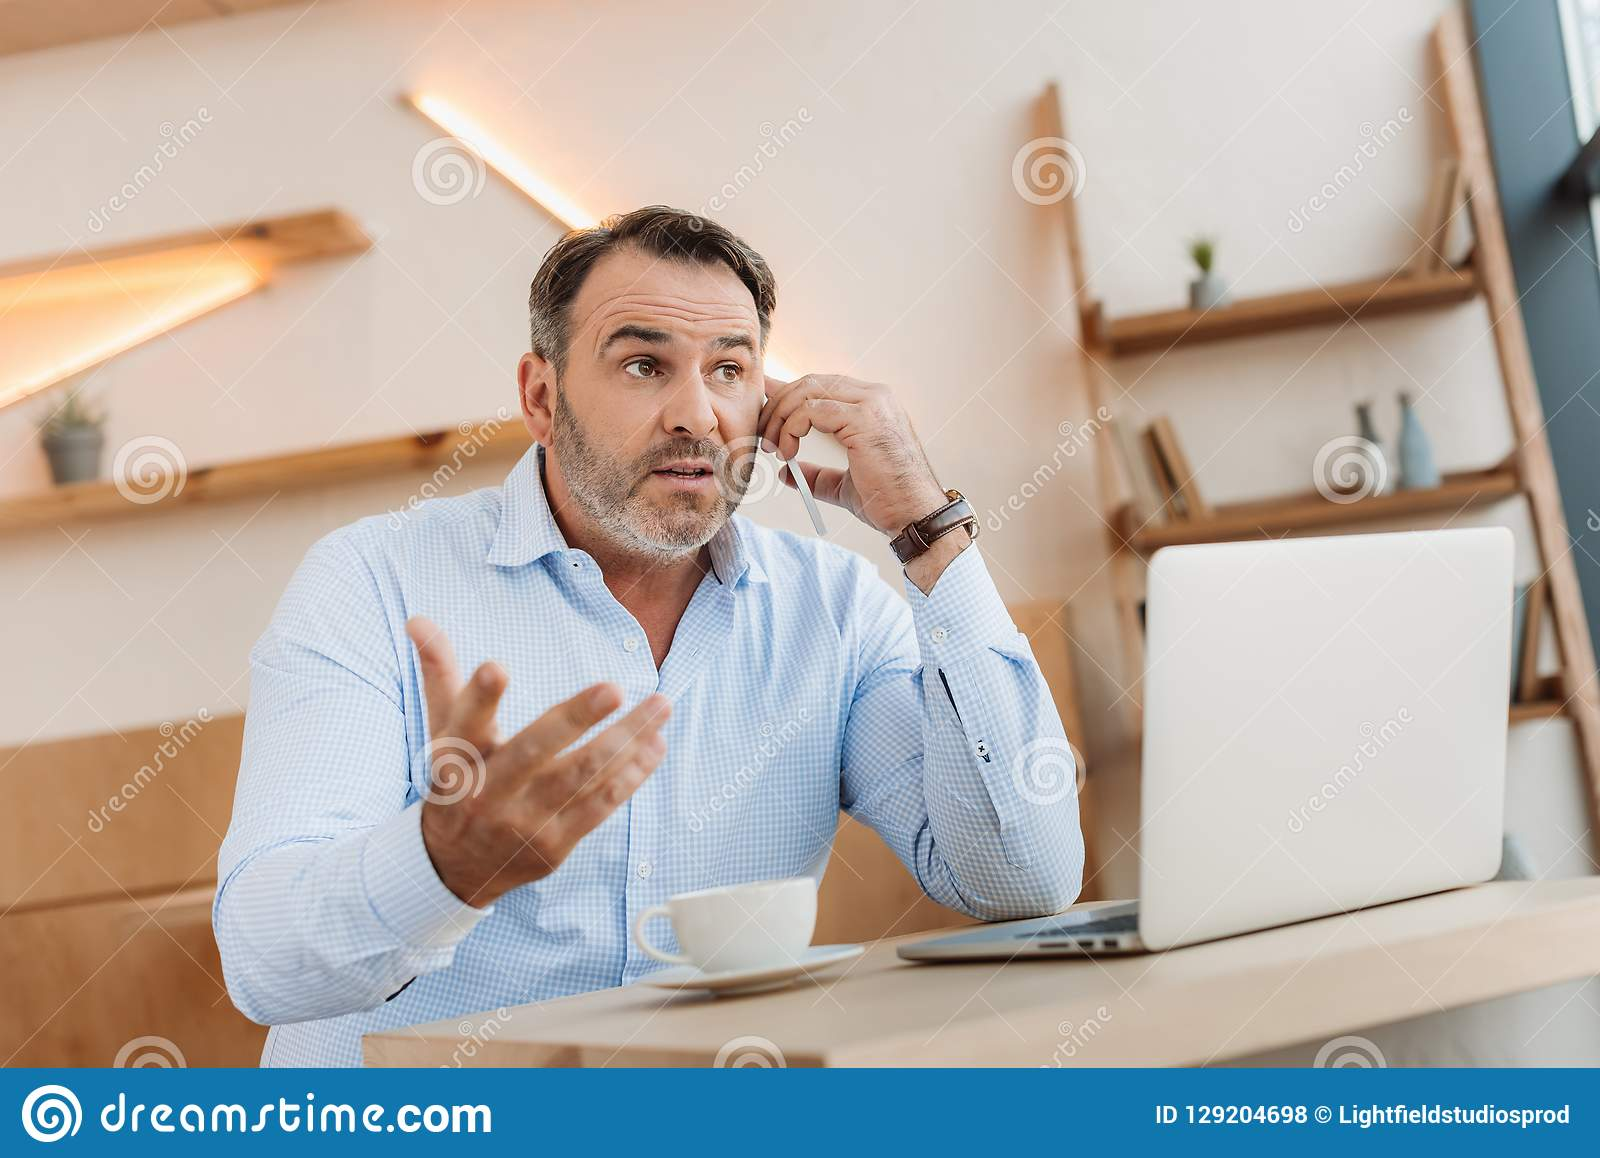phone: (749, 378, 837, 548)
talk: (585, 309, 923, 577)
